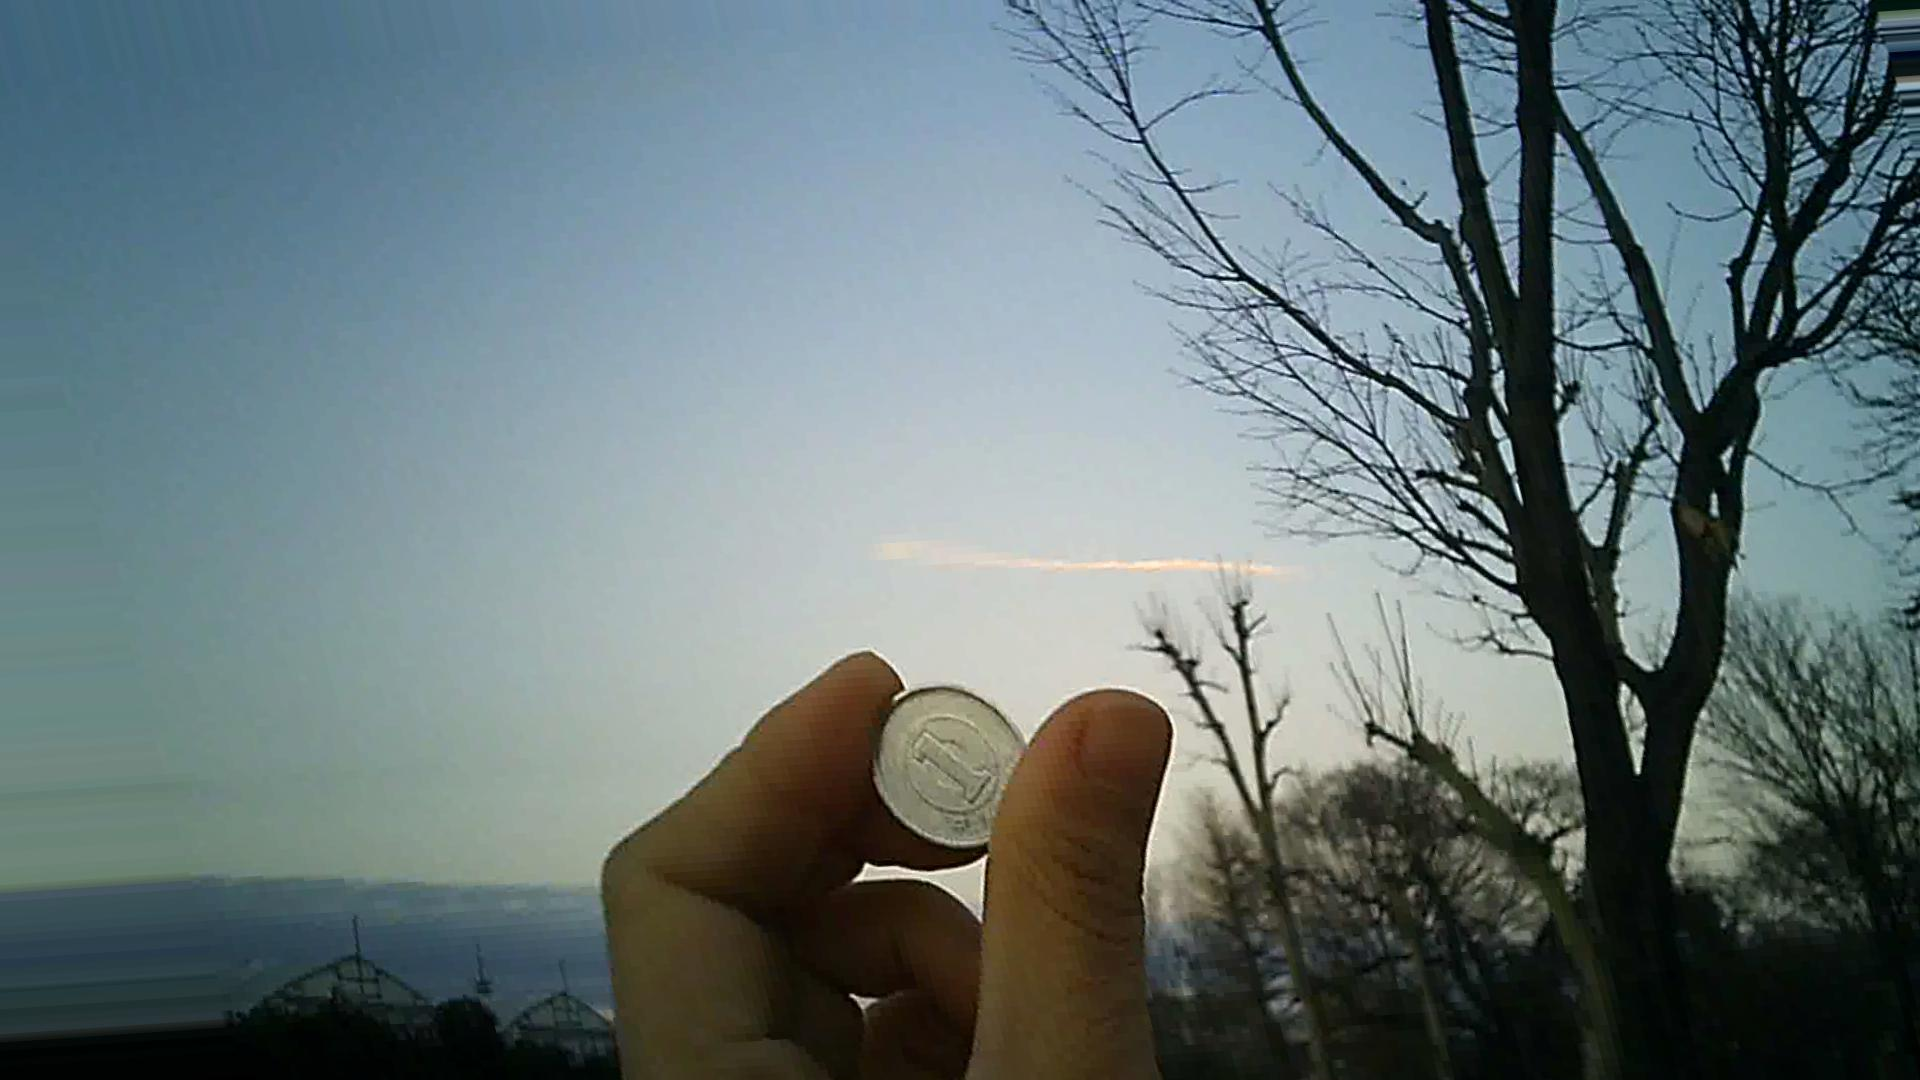1 Yen: (860, 683, 1038, 862)
